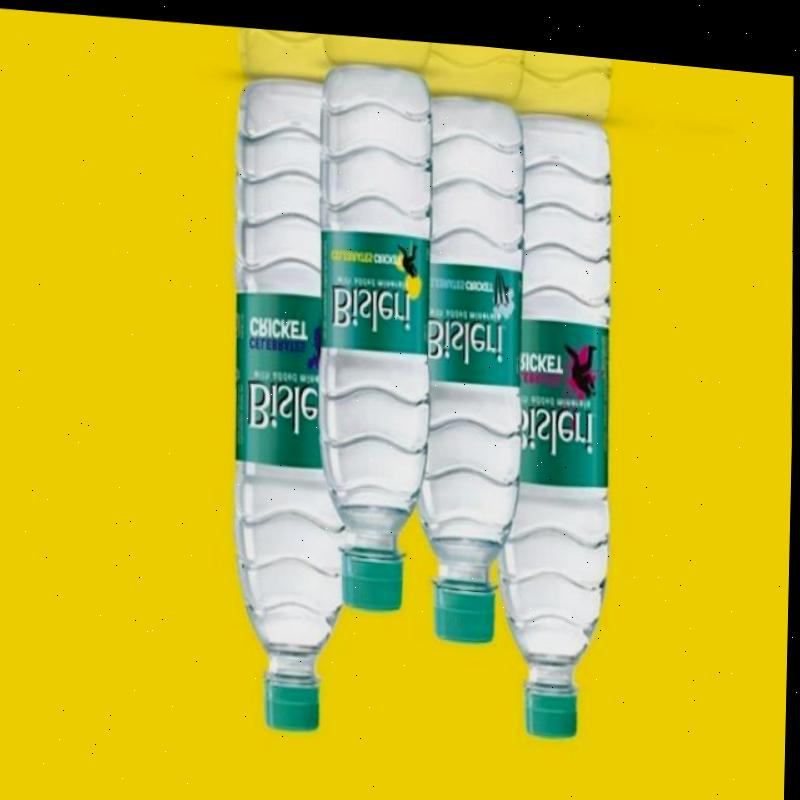botella: (224, 58, 357, 727), (490, 91, 625, 728), (308, 51, 440, 606), (406, 75, 534, 636)
